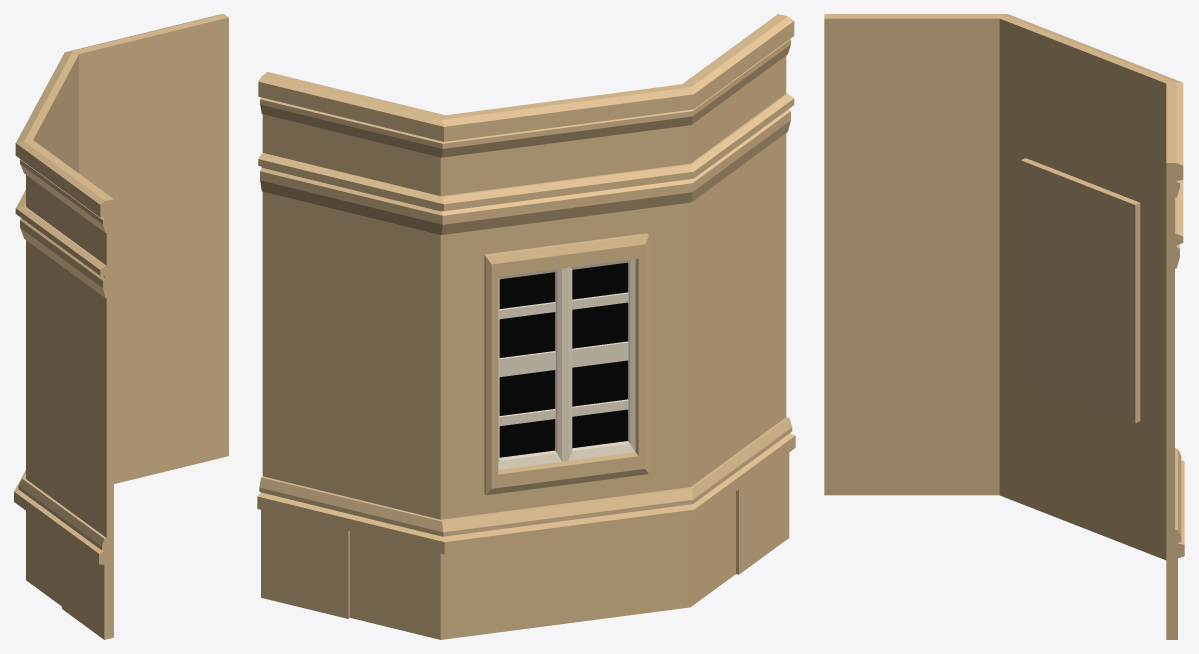
The model's file is Corner_A_OUTER_ROUNDED.fbx.
3 renders of one model, left to right at view 1: azimuth 30°, elevation 25°; view 2: azimuth 150°, elevation 25°; view 3: azimuth 270°, elevation 25°, orthographic. The views are drawn at different scales.
Parts seen in each view (by area): view 1: Corner_A_OUTER_ROUNDED; view 2: Corner_A_OUTER_ROUNDED; view 3: Corner_A_OUTER_ROUNDED.
Part boxes in pixels (bbox=[...]): Corner_A_OUTER_ROUNDED: bbox=[14, 14, 228, 639]; Corner_A_OUTER_ROUNDED: bbox=[257, 14, 795, 639]; Corner_A_OUTER_ROUNDED: bbox=[824, 14, 1184, 639].
Bounding box in the file's own units: 205 × 205 × 300.
